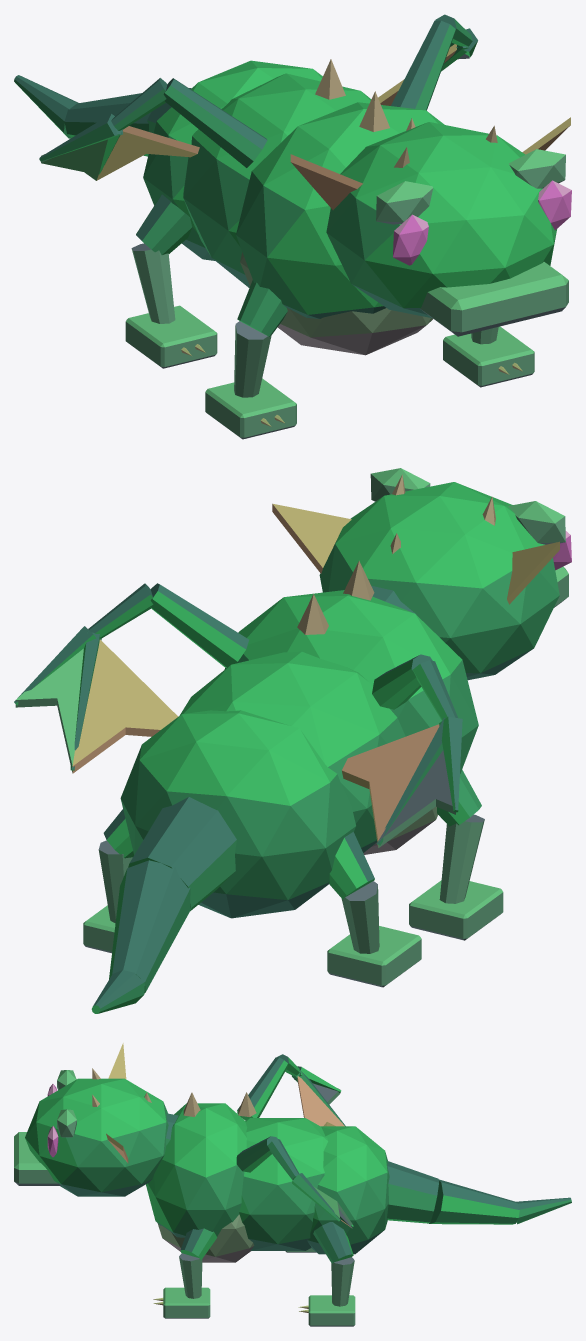
The model's file is creature_dragon_whelp_stalk_b_v01.glb.
3 renders of one model, top to bottom at view 1: azimuth 30°, elevation 25°; view 2: azimuth 150°, elevation 25°; view 3: azimuth 270°, elevation 25°, orthographic. The views are drawn at different scales.
Visible parts, largest first — view 1: GEO_creature_dragon_whelp_stalk_b_v01; view 2: GEO_creature_dragon_whelp_stalk_b_v01; view 3: GEO_creature_dragon_whelp_stalk_b_v01.
Part boxes in pixels (left/top/right/bottom): GEO_creature_dragon_whelp_stalk_b_v01: left=14, top=14, right=571, bottom=439; GEO_creature_dragon_whelp_stalk_b_v01: left=14, top=468, right=571, bottom=1013; GEO_creature_dragon_whelp_stalk_b_v01: left=14, top=1043, right=571, bottom=1326.
Bounding box in the file's own units: 1.98 × 1.44 × 3.57.
